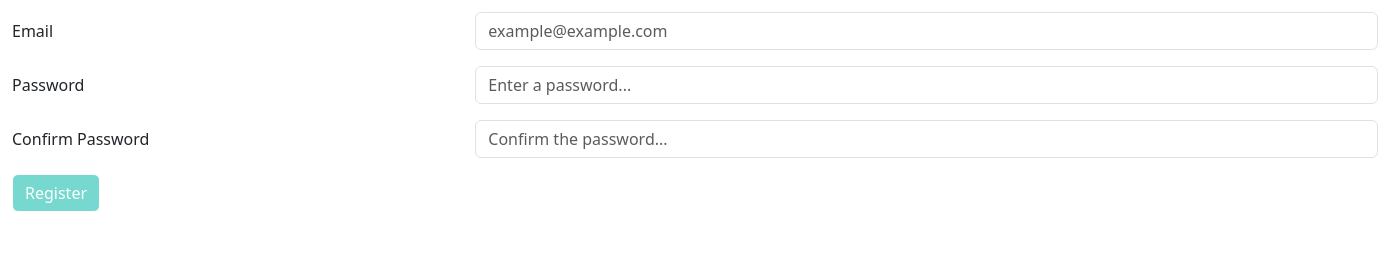
Test: RegisterForm tests › updates isRegEmailValid state on input change
The width and height of the screenshot is (1390, 254).
Type "invalid-email@" into the field with placeholder "example@example.com" at (927, 31), box [475,12,1378,50]
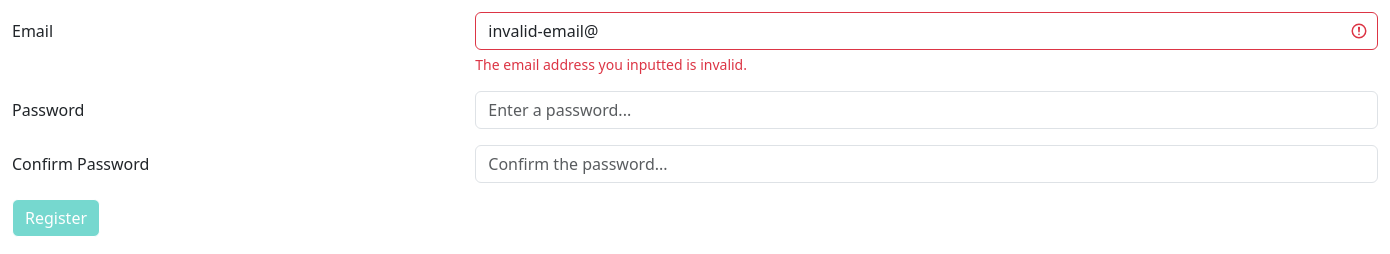
Expected: the text "The email address you inputted is invalid." is shown, [475,55,747,74]
